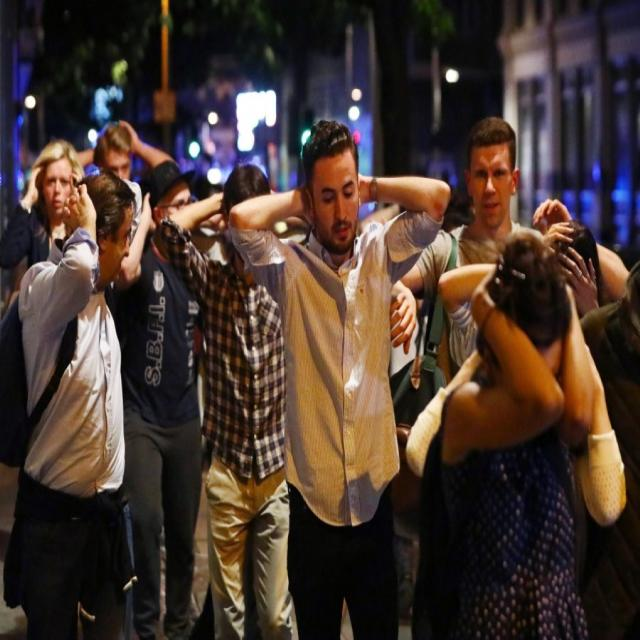body: (221, 113, 456, 639), (157, 158, 312, 639), (429, 223, 599, 640), (0, 168, 149, 639), (403, 193, 635, 480), (110, 152, 216, 639), (13, 125, 248, 291), (388, 115, 528, 393), (576, 259, 640, 640), (0, 136, 82, 269)
